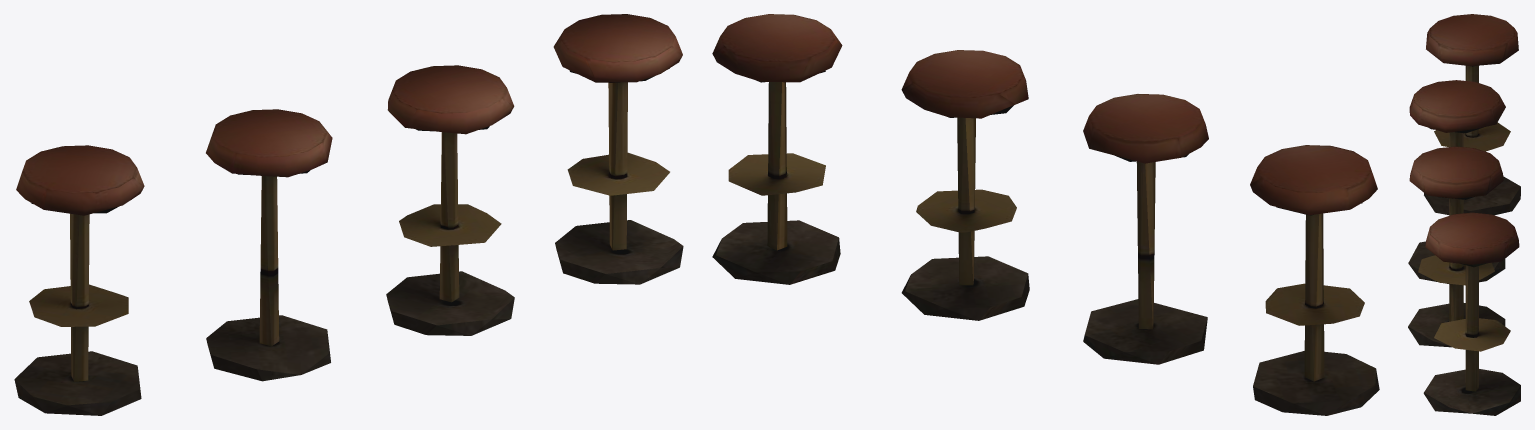
File: cantina_stools_lod1.glb
3 renders of one model, left to right at view 1: azimuth 30°, elevation 25°; view 2: azimuth 150°, elevation 25°; view 3: azimuth 270°, elevation 25°, orthographic. The views are drawn at different scales.
Visible parts, largest first — view 1: cantina_stools; view 2: cantina_stools; view 3: cantina_stools.
Part boxes in pixels (x1,y1,x2,y2): cantina_stools: (14,14,683,415); cantina_stools: (712,14,1379,415); cantina_stools: (1408,14,1520,415).
Size of the model in its own units: 2.34 by 0.765 by 0.4669.
Materials: 1 (1 with a texture image).
